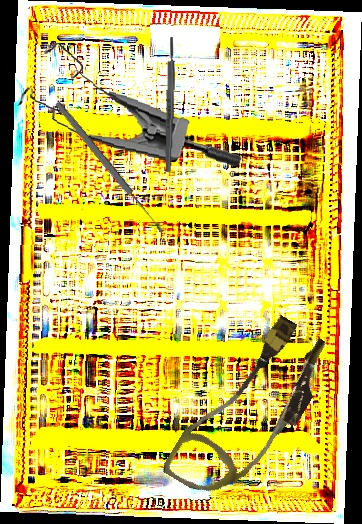Cannula: (160, 302, 341, 519)
Scalpel Handle: (163, 36, 177, 173)
Speculum: (13, 40, 252, 168)
Surgical Spoon: (53, 99, 166, 236)
